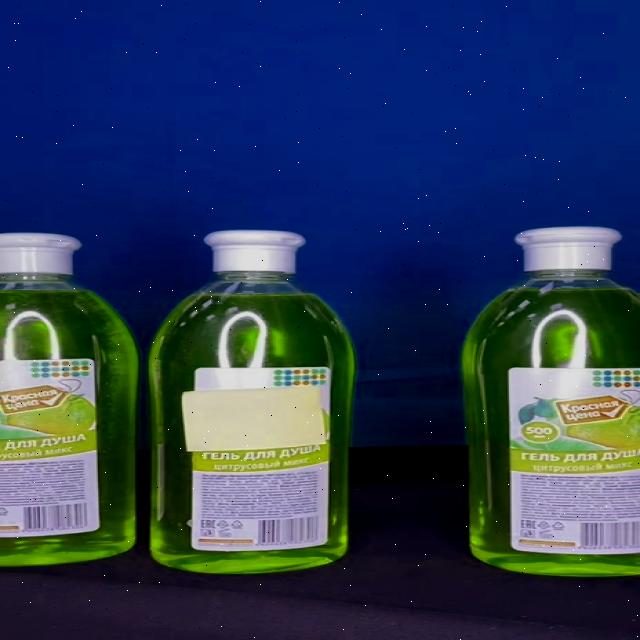Bottle: (147, 229, 356, 573), (462, 227, 640, 578)
Cap: (515, 227, 620, 271), (203, 230, 306, 273)
